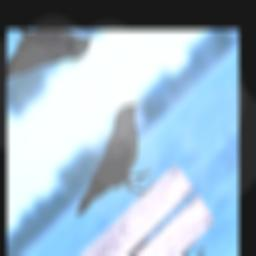Crow: (47, 91, 181, 244)
